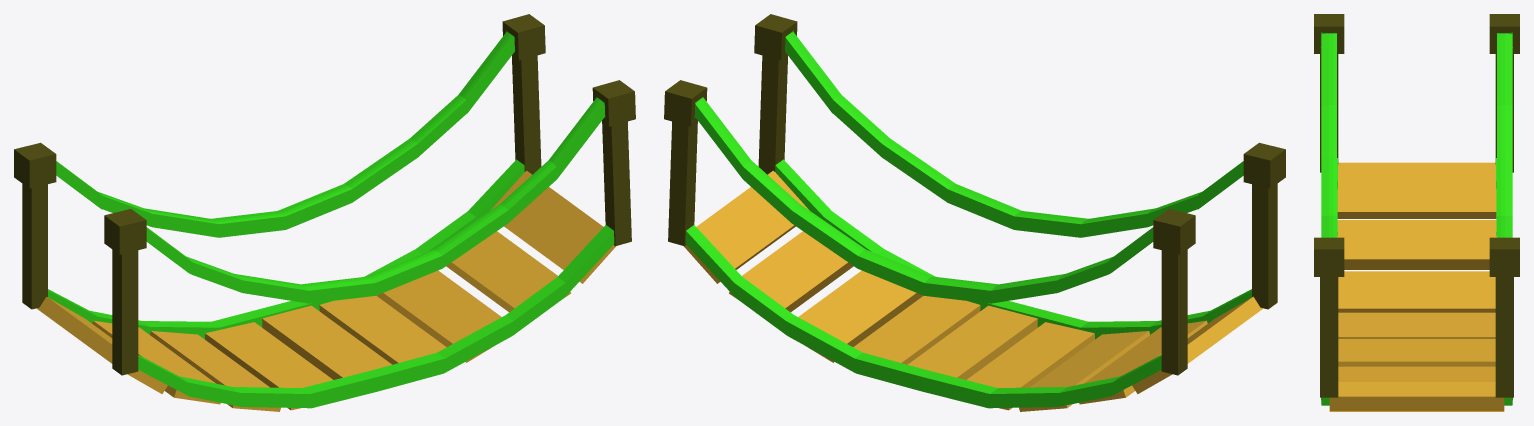
Rendered from ponte.fbx.
3 views of the same model, side by side, from view 1: azimuth 30°, elevation 25°; view 2: azimuth 150°, elevation 25°; view 3: azimuth 270°, elevation 25° (orthographic). The views are drawn at different scales.
Visible parts, largest first — view 1: Cube.003; view 2: Cube.003; view 3: Cube.003.
Part boxes in pixels (bbox=[...]): Cube.003: bbox=[14, 14, 635, 411]; Cube.003: bbox=[664, 14, 1285, 411]; Cube.003: bbox=[1314, 14, 1519, 411].
Bounding box in the file's own units: 279 × 126 × 98.83.
